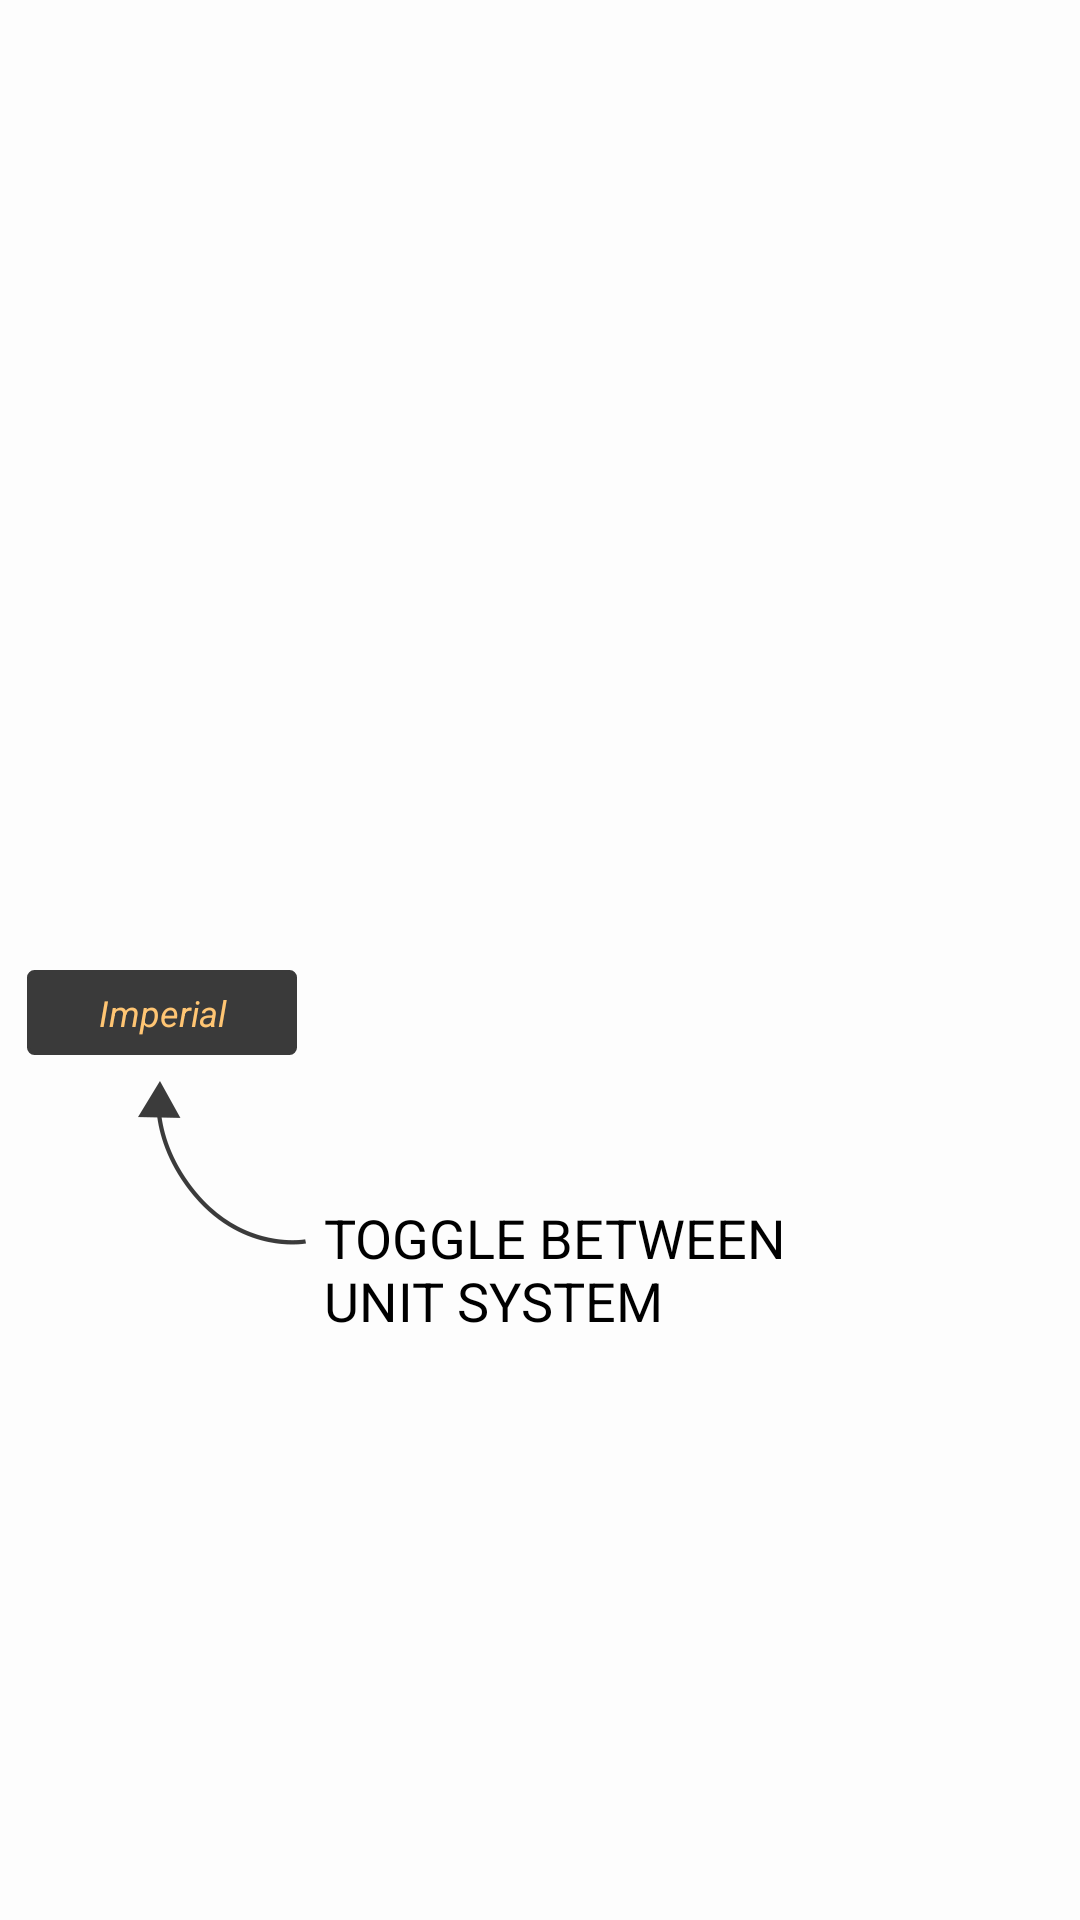

Icons on this 1080px x 1920px Android screen, each with the point to tap as point (x, y):
arrow up: point (222, 1163)
